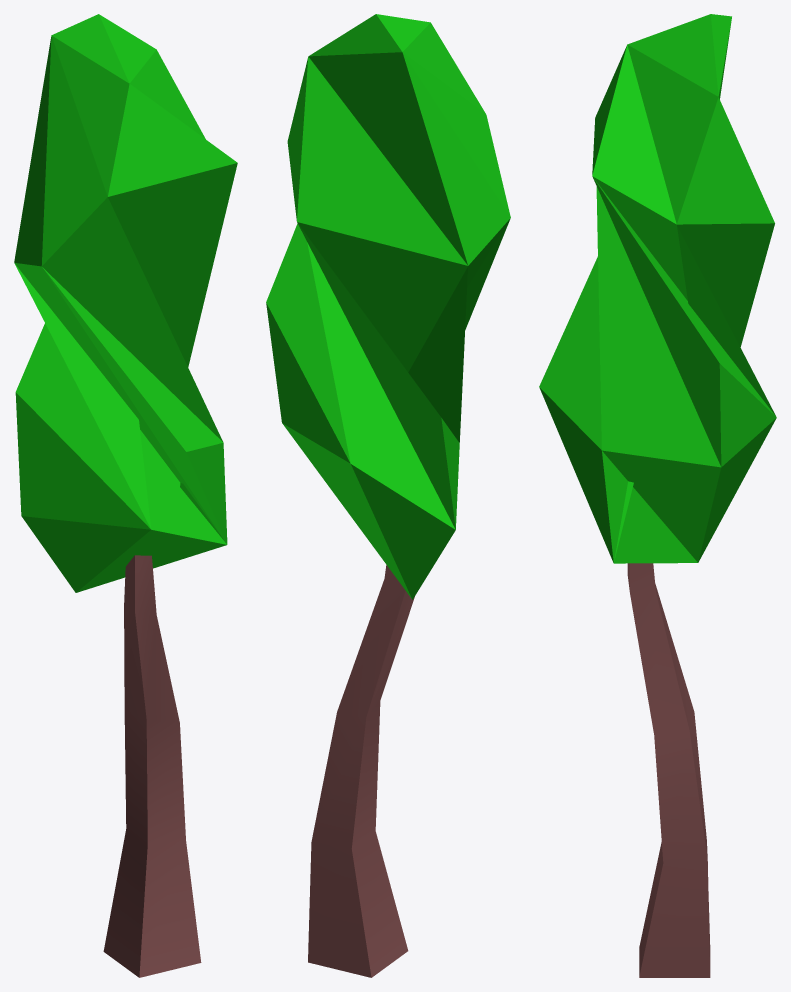
File: tree3.fbx
The picture shows the model from 3 angles, left to right: view 1: azimuth 30°, elevation 25°; view 2: azimuth 150°, elevation 25°; view 3: azimuth 270°, elevation 25°; orthographic projection. The views are drawn at different scales.
Parts seen in each view (by area): view 1: GeoSphere002, Box002; view 2: GeoSphere002, Box002; view 3: GeoSphere002, Box002.
Part boxes in pixels (x1=…): GeoSphere002: x1=14, y1=14, x2=237, y2=592; Box002: x1=103, y1=555, x2=201, y2=977; GeoSphere002: x1=266, y1=14, x2=510, y2=599; Box002: x1=308, y1=565, x2=414, y2=977; GeoSphere002: x1=539, y1=14, x2=776, y2=563; Box002: x1=627, y1=563, x2=710, y2=977.
Size of the model in its own units: 84.8 by 386 by 89.2.
